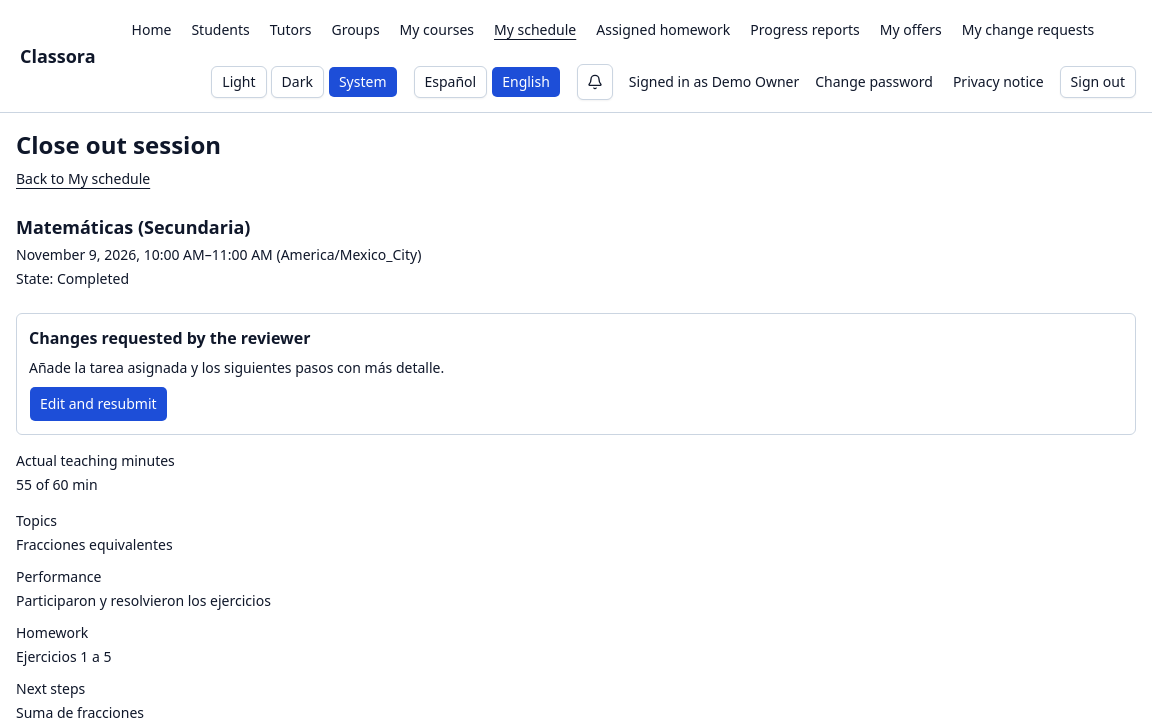
Scenario: the edit modes (#305) › returns to the view when an attendance save finds it locked (B2)
The image size is (1152, 720).
Click the button "Edit and resubmit" at x=98, y=404, box [29, 386, 168, 422]
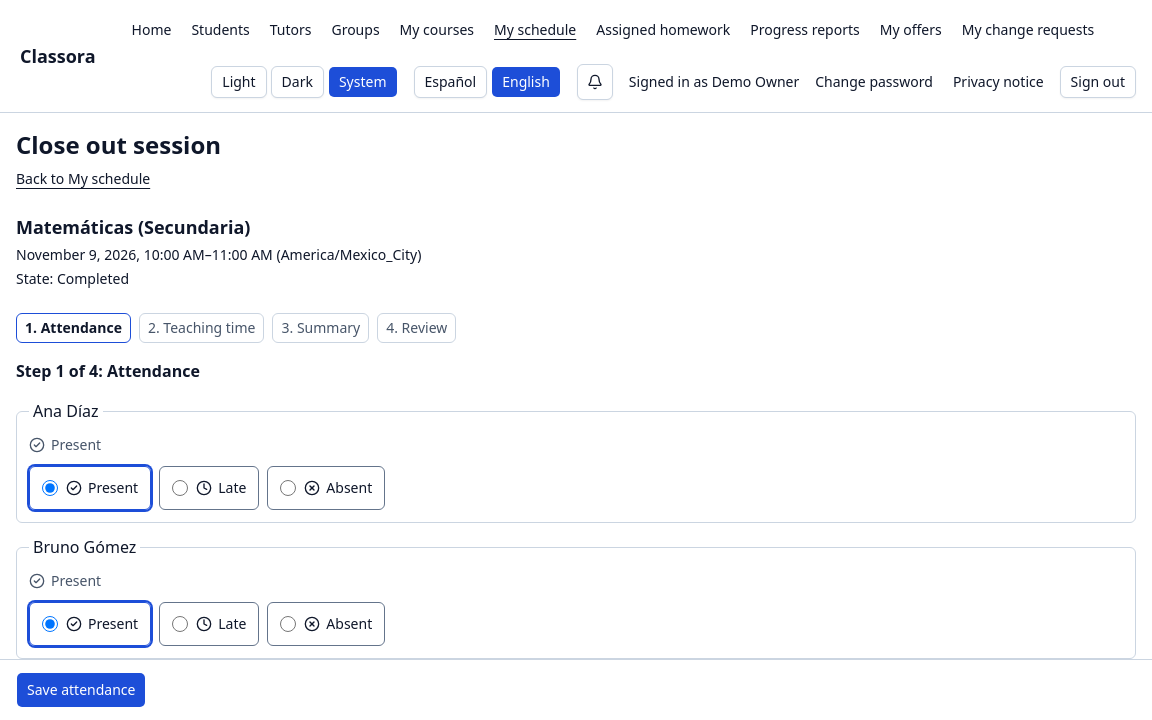
Click the radio button labelled "Absent" below "Bruno Gómez" at x=288, y=624, box [280, 616, 296, 632]
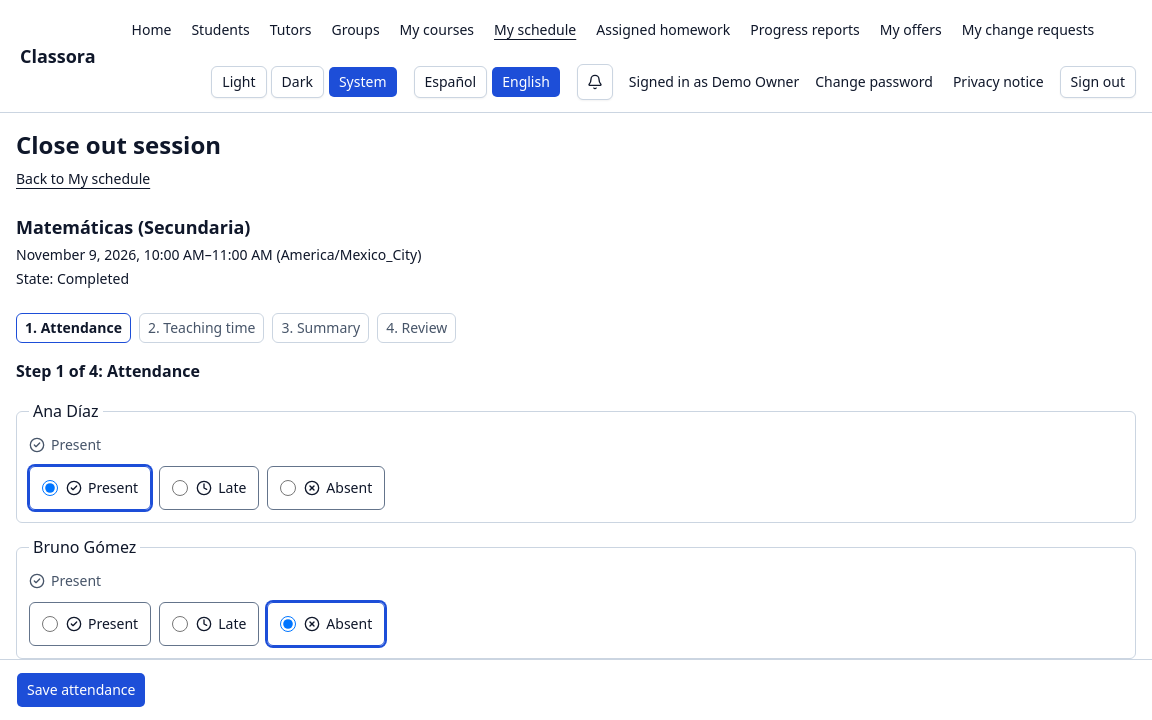
Click the button "Save attendance" at x=81, y=690, box [16, 672, 146, 708]
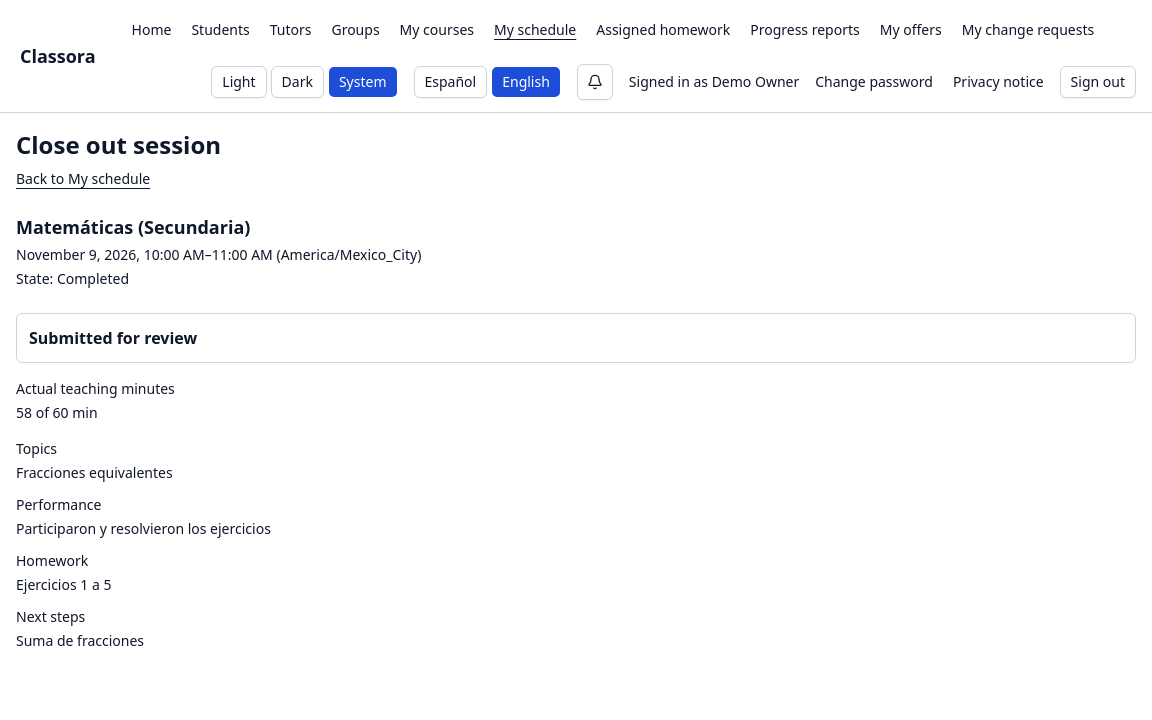
Expected: the list is gone
